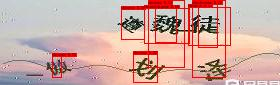chinese: (129, 56, 171, 80), (194, 57, 230, 85), (190, 12, 225, 39), (151, 10, 184, 38), (119, 14, 148, 38), (43, 60, 72, 75)
